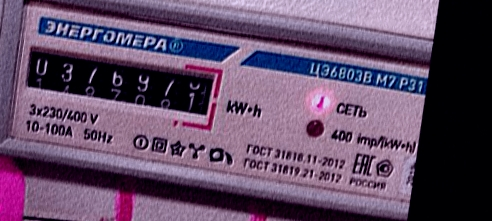0: (32, 54, 51, 77)
1: (185, 91, 198, 113)
3: (58, 60, 75, 85)
6: (110, 66, 126, 88)
7: (84, 61, 101, 87), (160, 74, 177, 99)
9: (135, 70, 151, 94)
screen: (16, 39, 226, 135)
